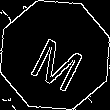M_NE: (23, 22, 87, 88)
